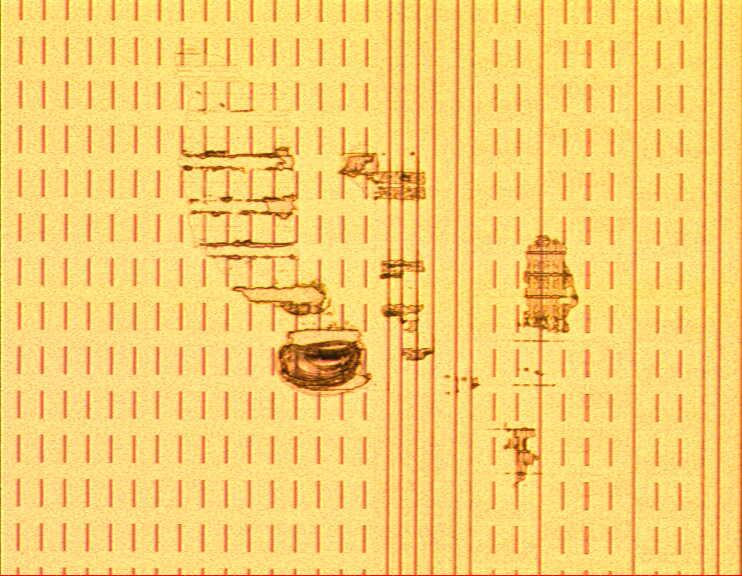SCRATCH: (154, 43, 601, 510)
